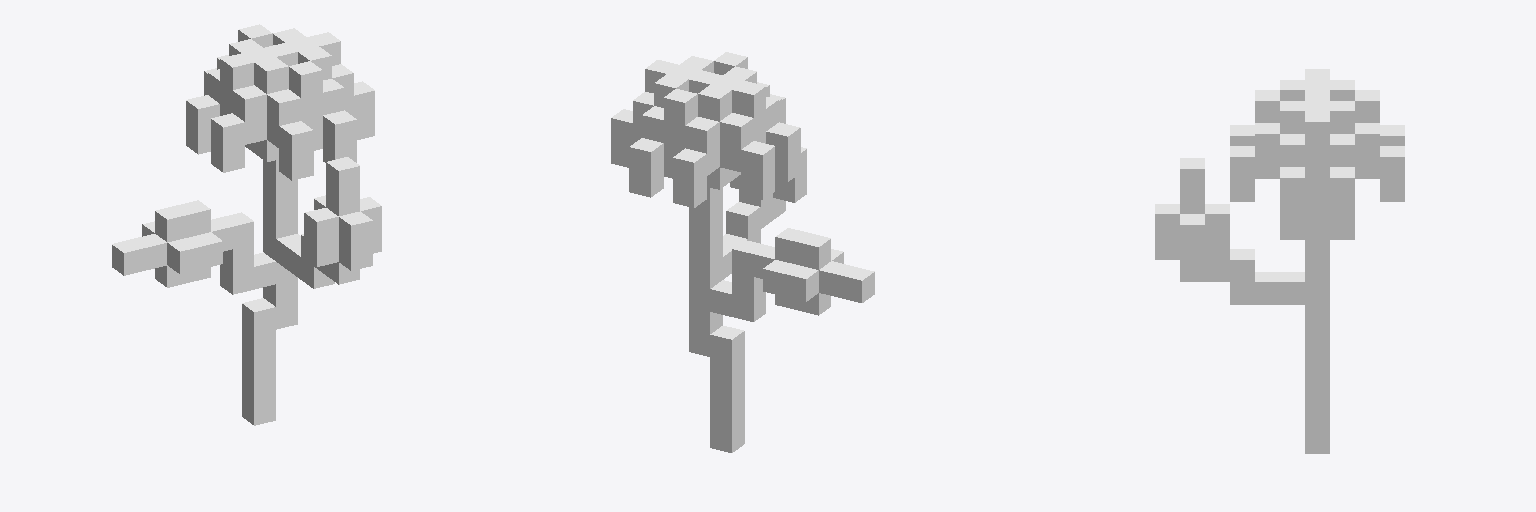
The model's file is CottonPlant1.obj.
3 renders of one model, left to right at view 1: azimuth 30°, elevation 25°; view 2: azimuth 150°, elevation 25°; view 3: azimuth 270°, elevation 25°, orthographic.
Visible parts, largest first — view 1: CottonPlant1; view 2: CottonPlant1; view 3: CottonPlant1.
Part boxes in pixels (x1,y1,x2,y2): CottonPlant1: (112, 24, 381, 425); CottonPlant1: (611, 52, 874, 452); CottonPlant1: (1155, 69, 1404, 453).
Bounding box in the file's own units: 1.1 × 1.6 × 1.